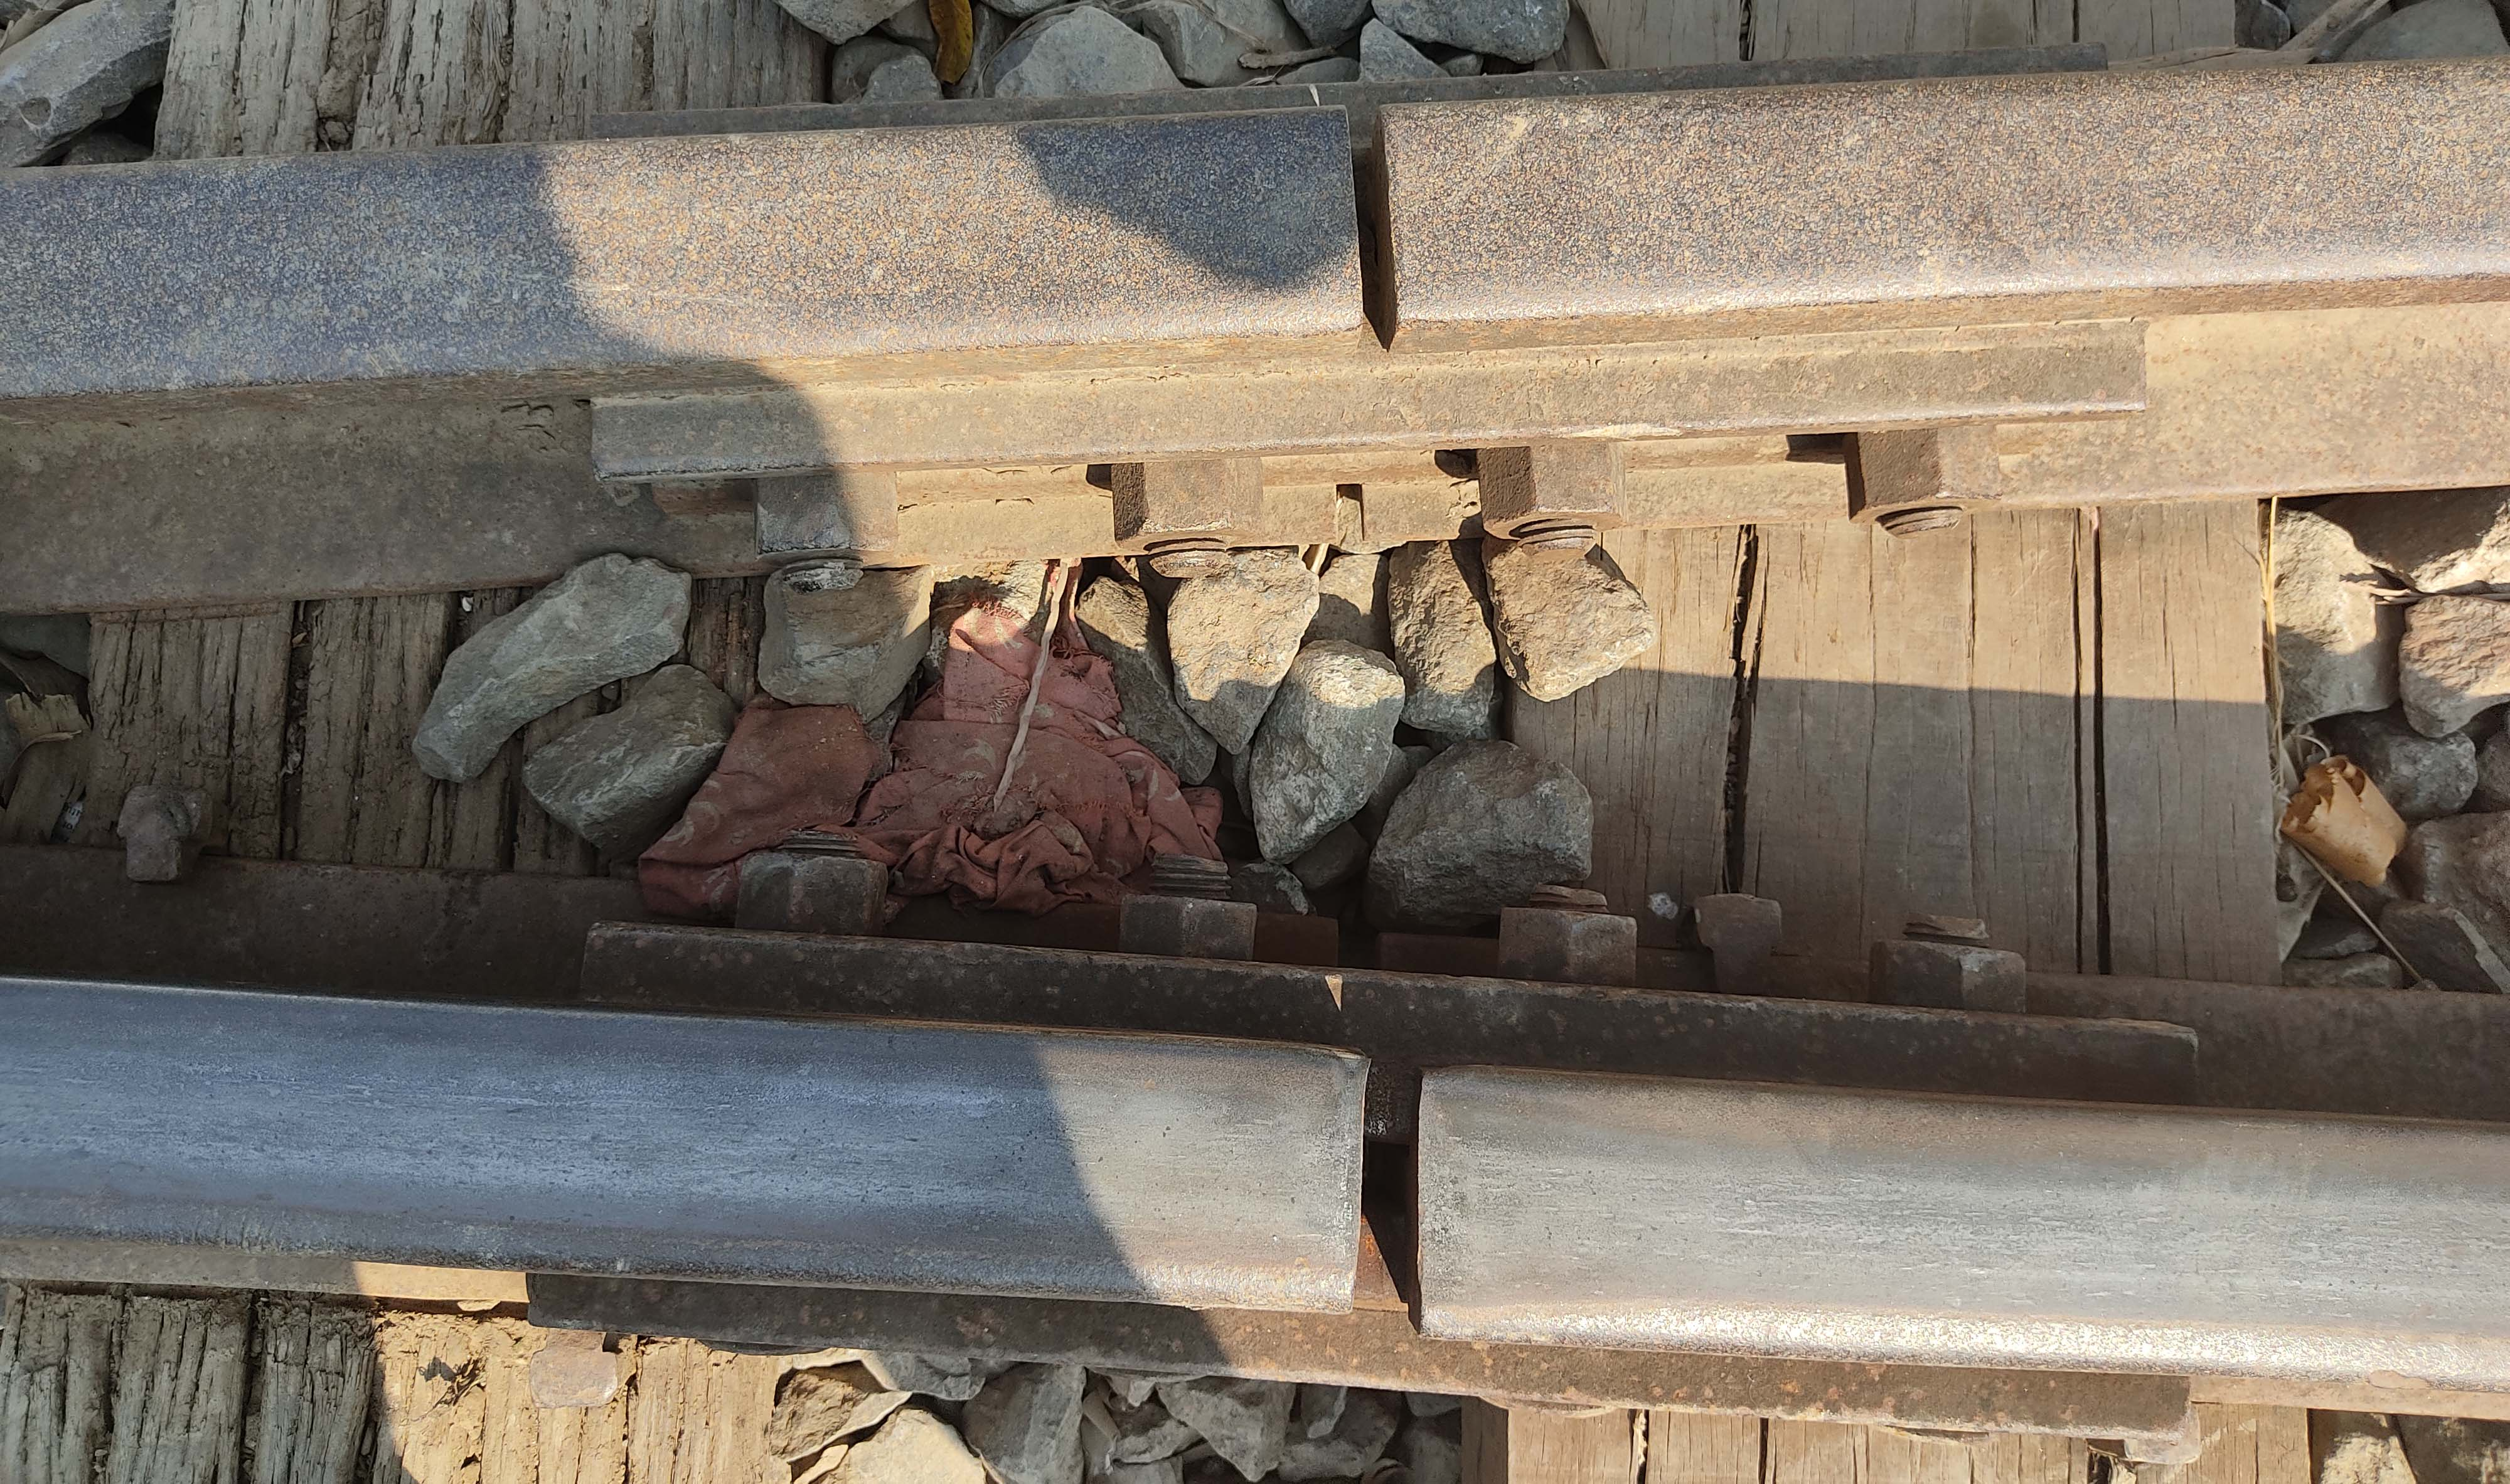error2: (1332, 1012, 1478, 1374), (1328, 81, 1457, 431)
